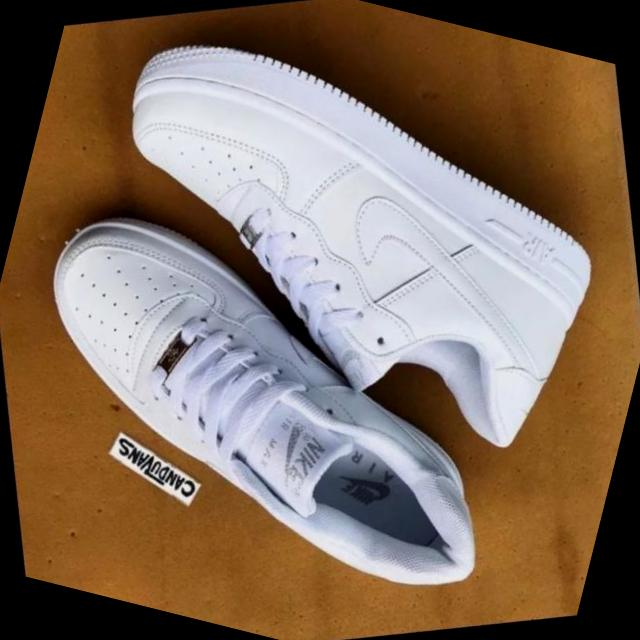nike_fake_airforce: (22, 0, 640, 587), (0, 92, 570, 640)
